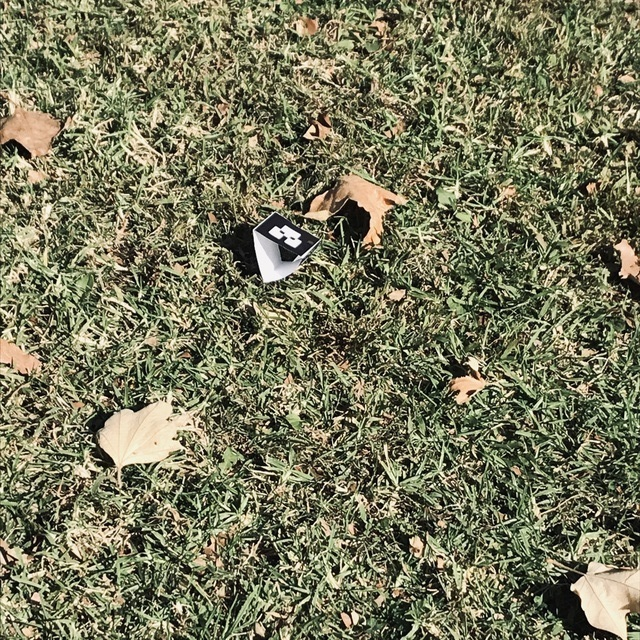ARTag: (251, 210, 320, 283)
